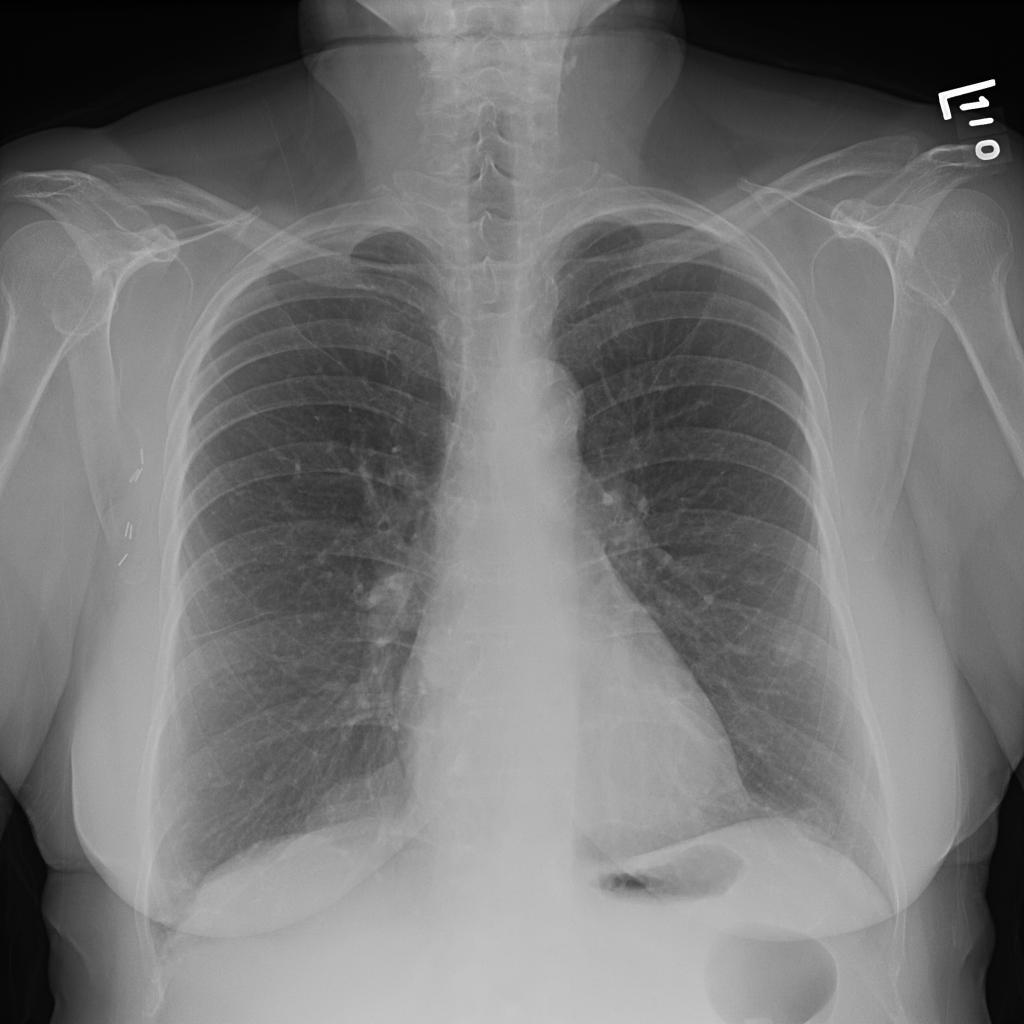Nodule: (373, 351, 408, 390), (370, 270, 410, 304), (377, 237, 405, 273)
